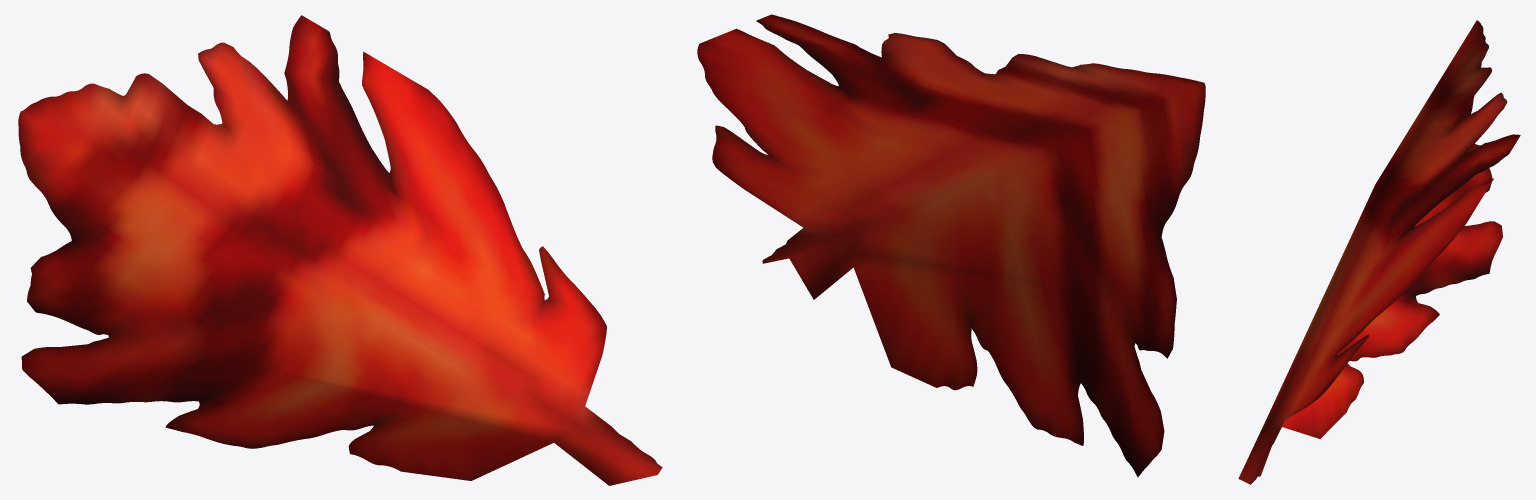
The model's file is Aku_projo.obj.
3 renders of one model, left to right at view 1: azimuth 30°, elevation 25°; view 2: azimuth 150°, elevation 25°; view 3: azimuth 270°, elevation 25°, orthographic. The views are drawn at different scales.
Parts seen in each view (by area): view 1: AkuAku.005; view 2: AkuAku.005; view 3: AkuAku.005.
Part boxes in pixels (box(x1,y1,x2,y2)): AkuAku.005: box(18, 15, 662, 485); AkuAku.005: box(697, 14, 1205, 477); AkuAku.005: box(1238, 20, 1520, 484).
Bounding box in the file's own units: 9.68 × 7.13 × 6.22.
